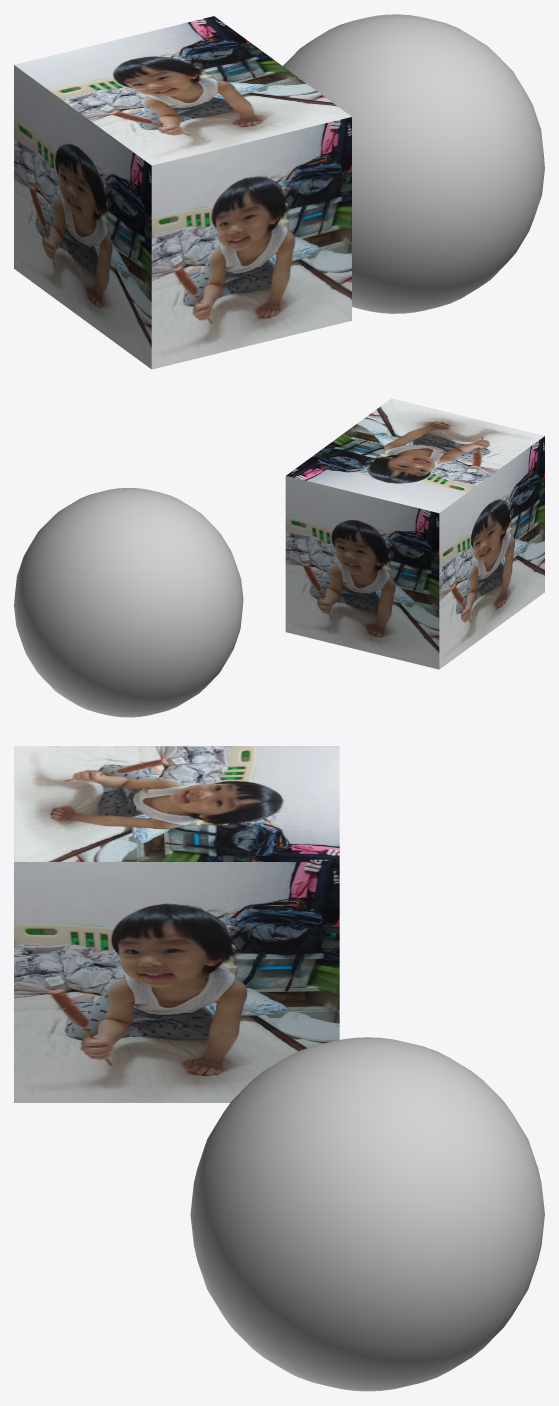
File: SphereBoxZ.FBX
The picture shows the model from 3 angles, top to bottom: view 1: azimuth 30°, elevation 25°; view 2: azimuth 150°, elevation 25°; view 3: azimuth 270°, elevation 25°; orthographic projection. The views are drawn at different scales.
Visible parts, largest first — view 1: Box001, Sphere001; view 2: Box001, Sphere001; view 3: Box001, Sphere001.
Boxes of the visible parts, x1,y1,x2,y2 form: Box001: (14, 16, 351, 369); Sphere001: (283, 14, 544, 313); Box001: (285, 398, 544, 669); Sphere001: (14, 488, 243, 717); Box001: (14, 746, 339, 1102); Sphere001: (190, 1037, 544, 1391).
Size of the model in its own units: 67.53 by 50.22 by 41.92.
